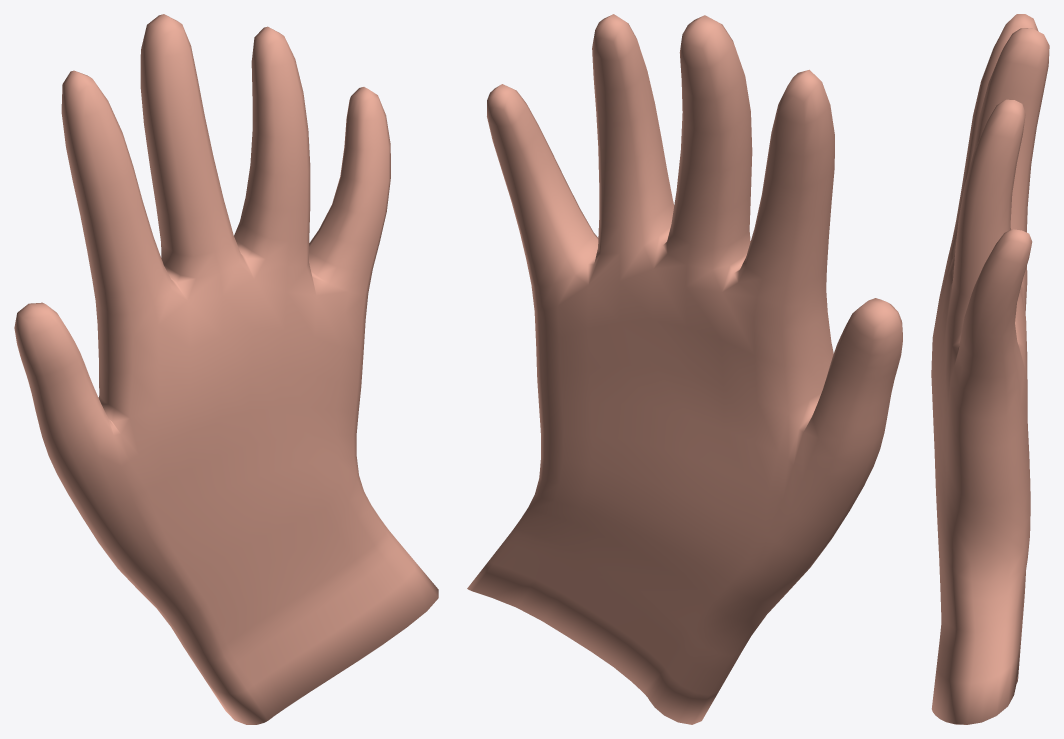
File: hand.fbx
The picture shows the model from 3 angles, left to right: view 1: azimuth 30°, elevation 25°; view 2: azimuth 150°, elevation 25°; view 3: azimuth 270°, elevation 25°; orthographic projection. The views are drawn at different scales.
Visible parts, largest first — view 1: Cube; view 2: Cube; view 3: Cube.
Part boxes in pixels (left/top/right/bottom): Cube: left=14, top=14, right=438, bottom=724; Cube: left=467, top=14, right=902, bottom=724; Cube: left=931, top=14, right=1049, bottom=724.
Size of the model in its own units: 349 by 566 by 91.89.
